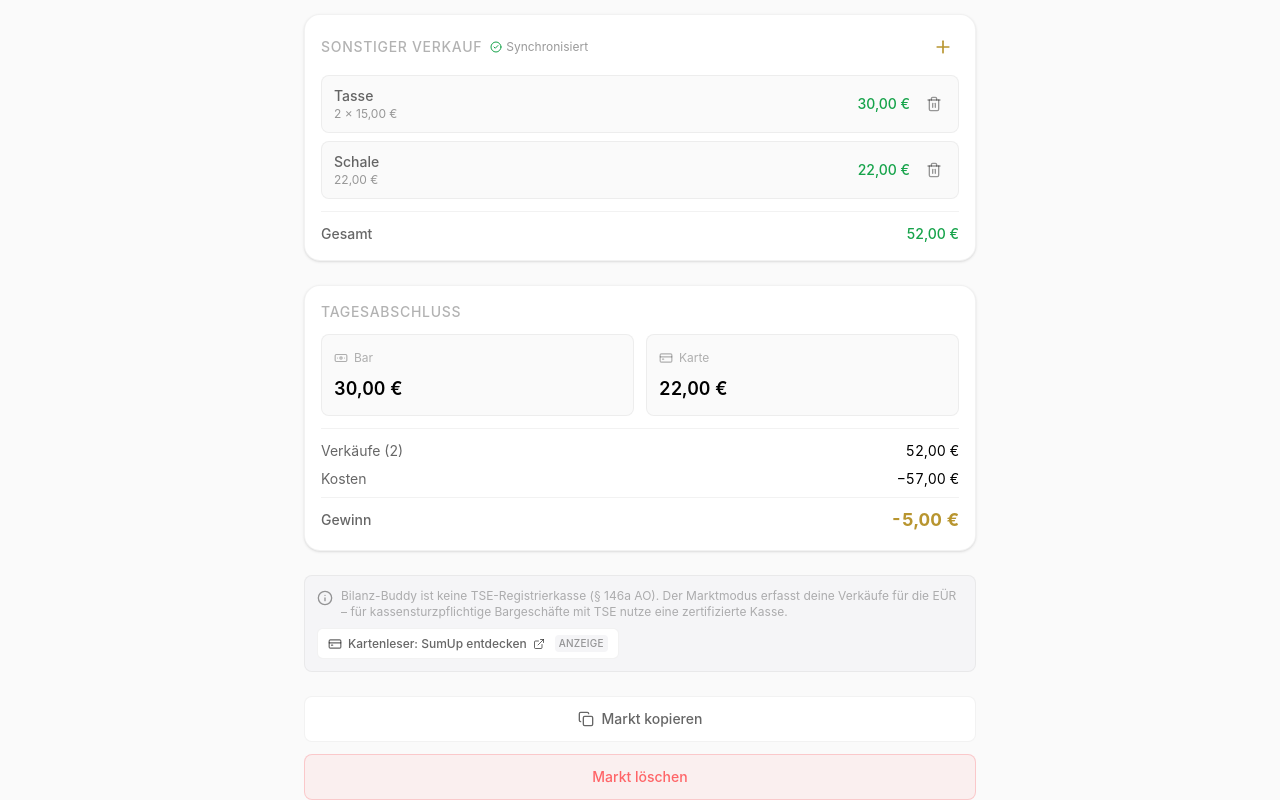
Test case: Marktdetail — Rückmeldung nach dem Seitenwechsel › meldet das Kopieren, weil danach das Formular der Kopie offen ist
(page scrolled)
Click the button "Markt kopieren": (640, 719) [304, 696, 976, 742]
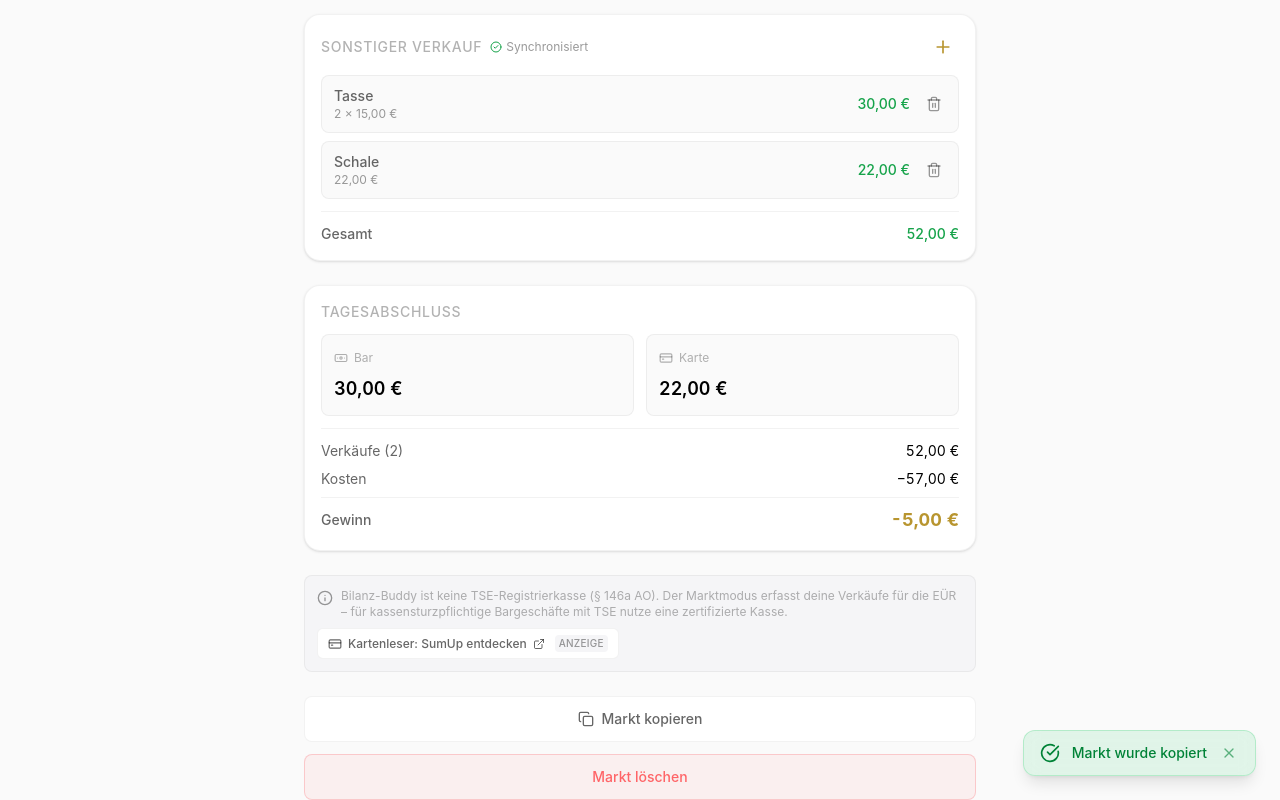
expect the text "Markt wurde kopiert" is shown: met, box [1072, 743, 1207, 763]
